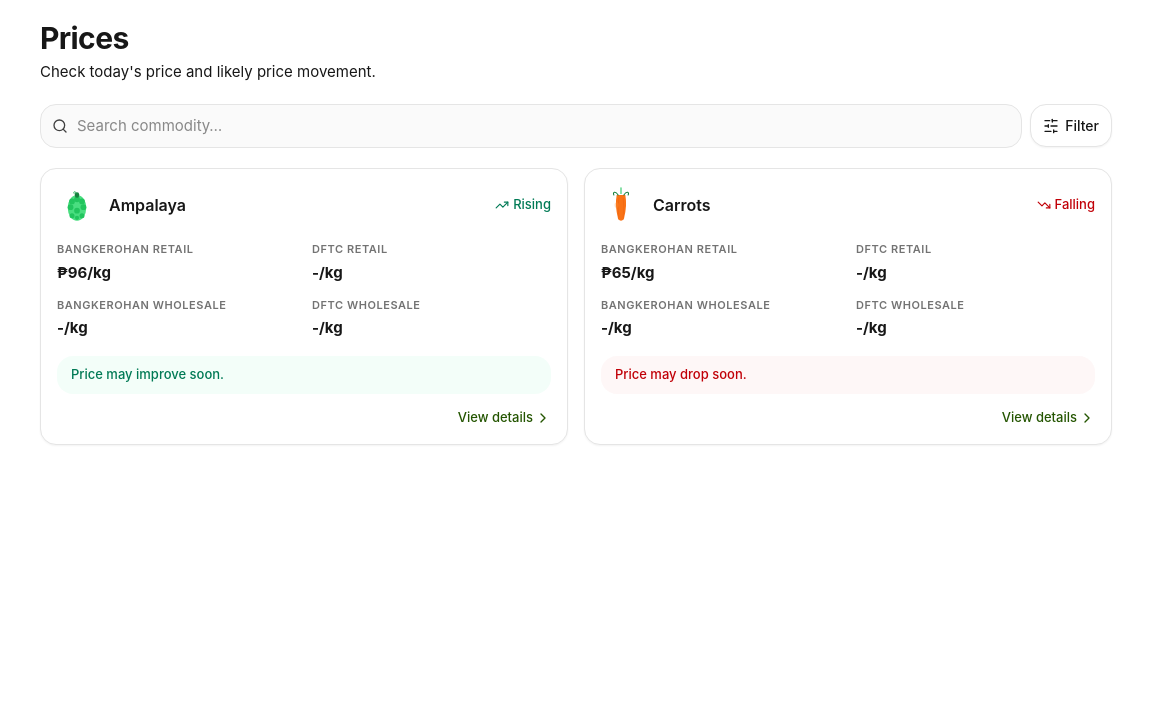
Test: Farmer prices page › filters commodities by price direction
This screenshot has width=1152, height=720.
Expected: the text "Ampalaya" is shown, [109,193,186,217]
Expected: the text "Carrots" is shown, [653,193,710,217]
// Open filter drawer
Click the button with aria-label "Open filter drawer": (1071, 126) [1030,104,1112,147]
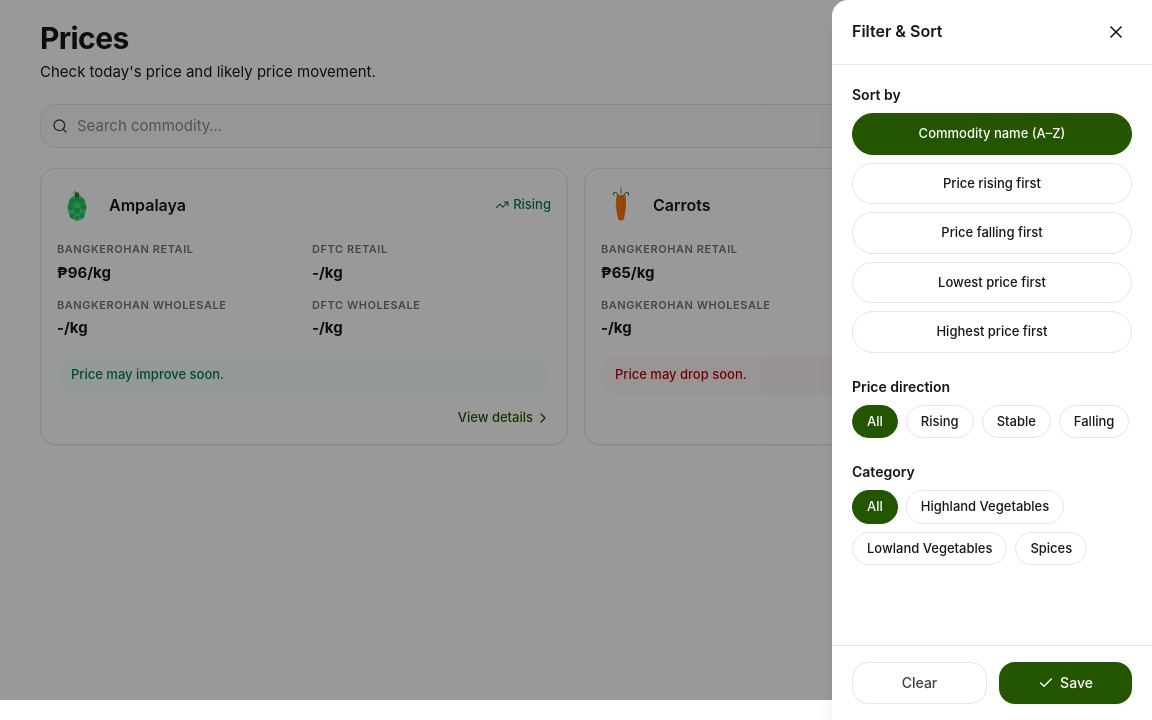
// Select Rising
Click the button "Rising": (940, 421) [906,404,974,438]
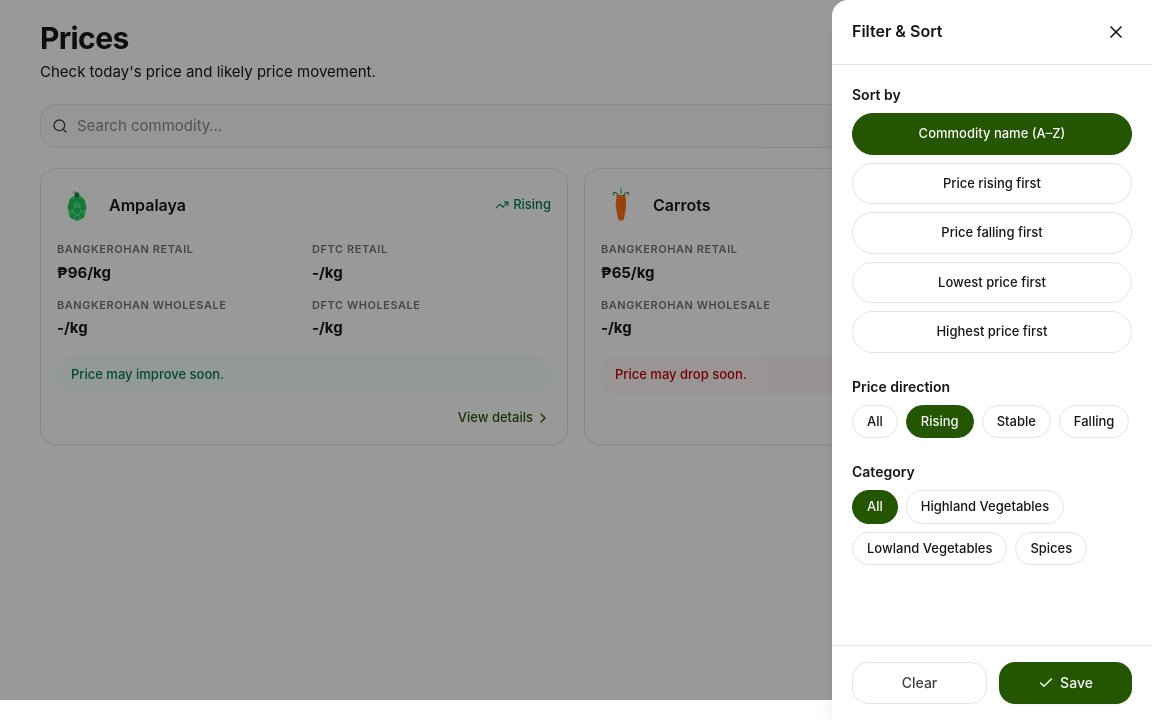
Click the button "Save": (1066, 683) [999,662,1132,704]
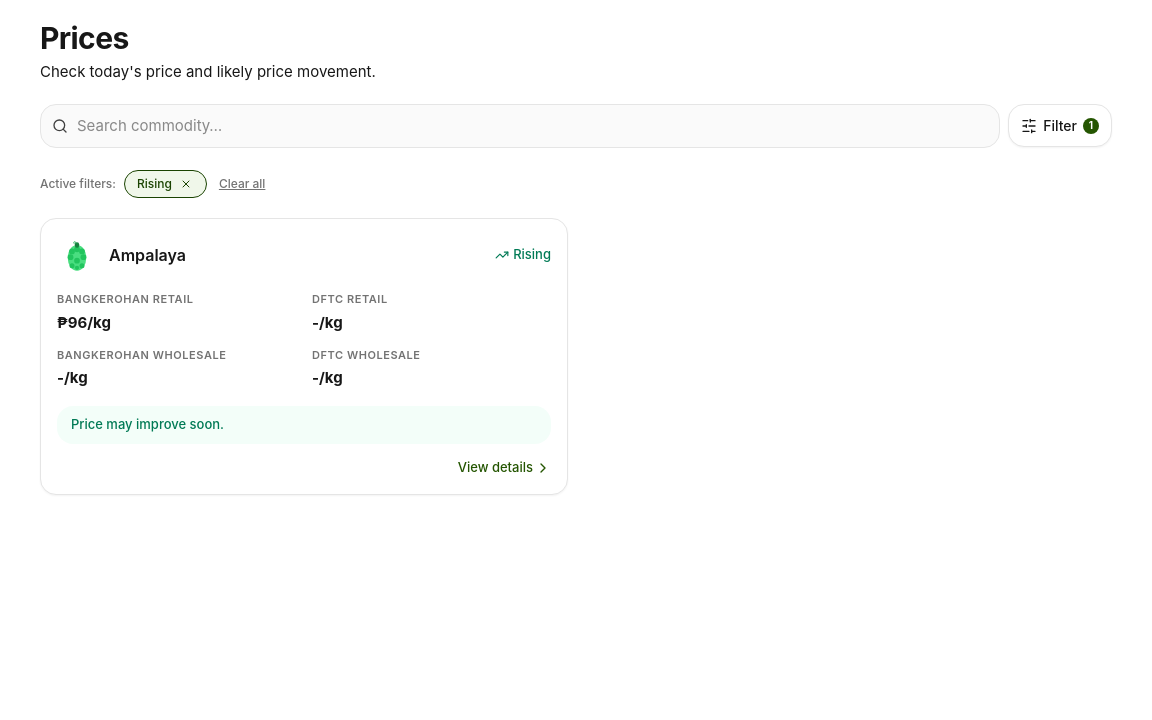
Expected: the text "Ampalaya" is shown, [109,243,186,267]
Result: the text "Carrots" is gone
